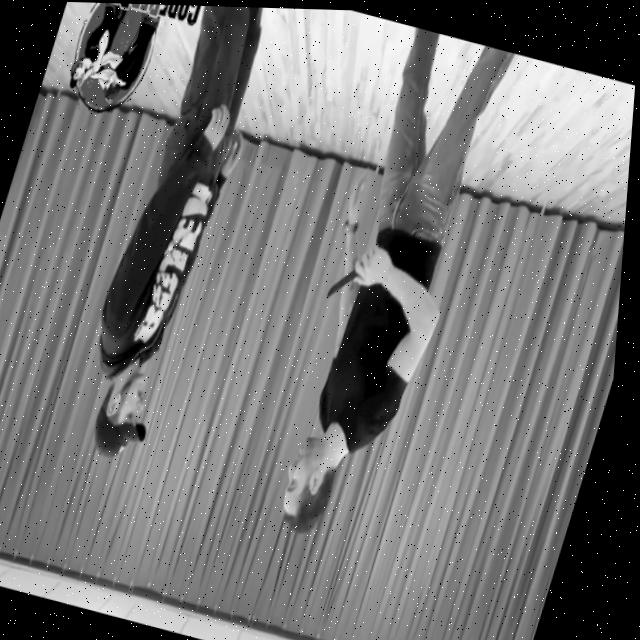knife: (321, 257, 363, 308)
